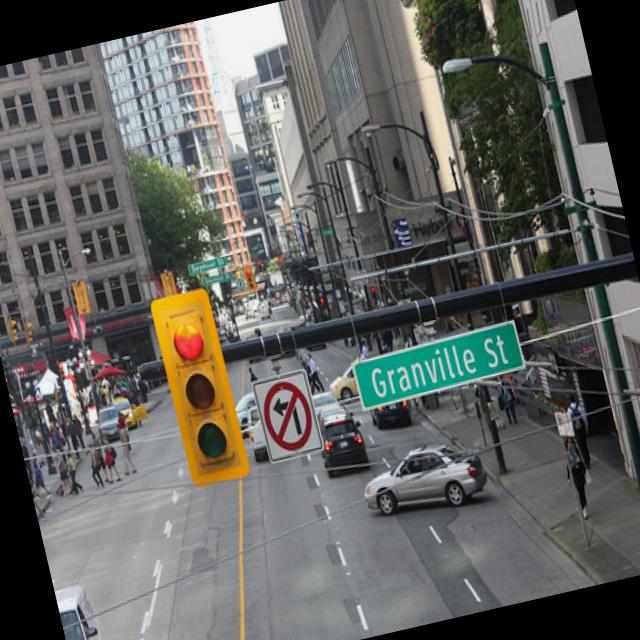Vehicle: (356, 432, 492, 524), (53, 576, 117, 640), (316, 414, 372, 473), (368, 398, 414, 432), (326, 363, 360, 402), (113, 393, 148, 430), (92, 405, 124, 444), (246, 418, 270, 462), (312, 399, 348, 426), (232, 390, 260, 422), (258, 302, 272, 321)
